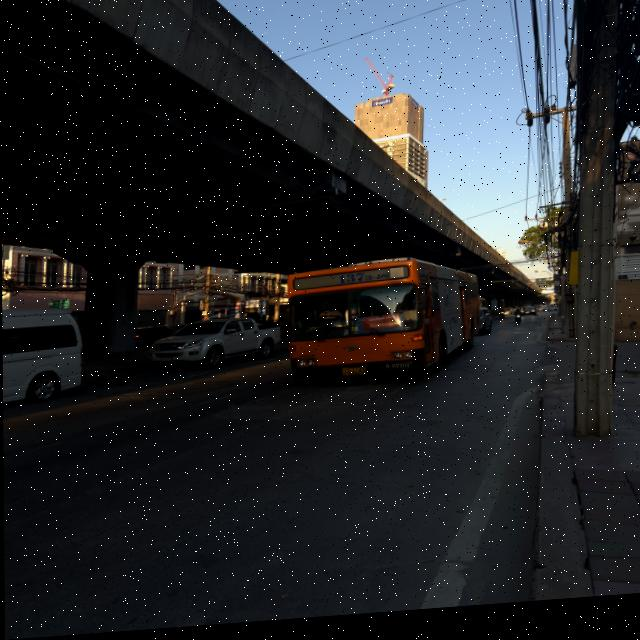BMTA-bus: (280, 265, 481, 390)
Bus Line Number: (335, 275, 389, 290)
Bus Side Number: (384, 368, 411, 376)
Destination Sign: (361, 320, 401, 337)
